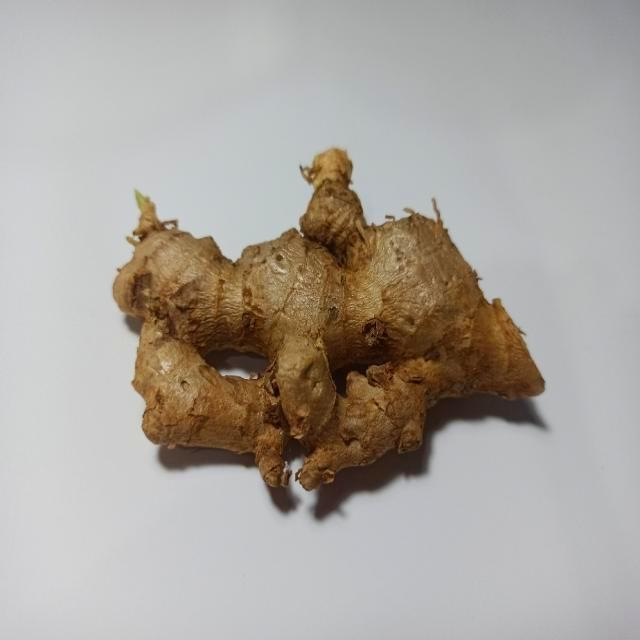ginger: (123, 191, 547, 488)
